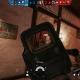Character: (35, 36, 41, 46)
Friend_label: (29, 70, 34, 74), (22, 46, 26, 50), (72, 58, 76, 61)
